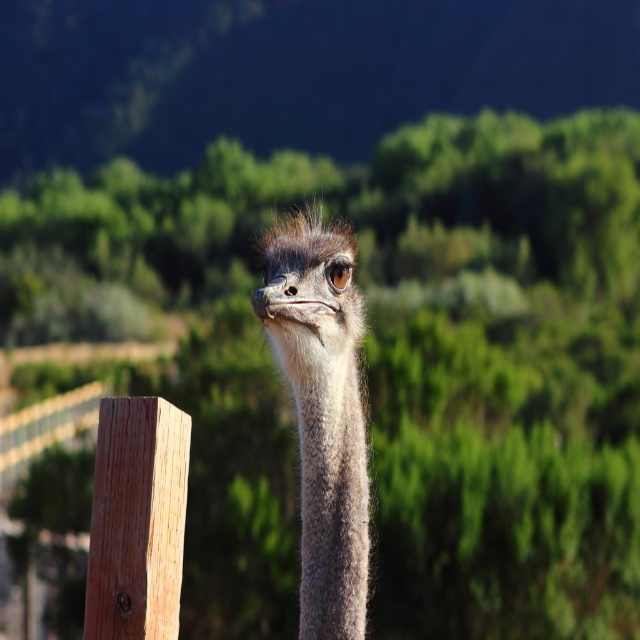Ostrich: (250, 220, 376, 639)
